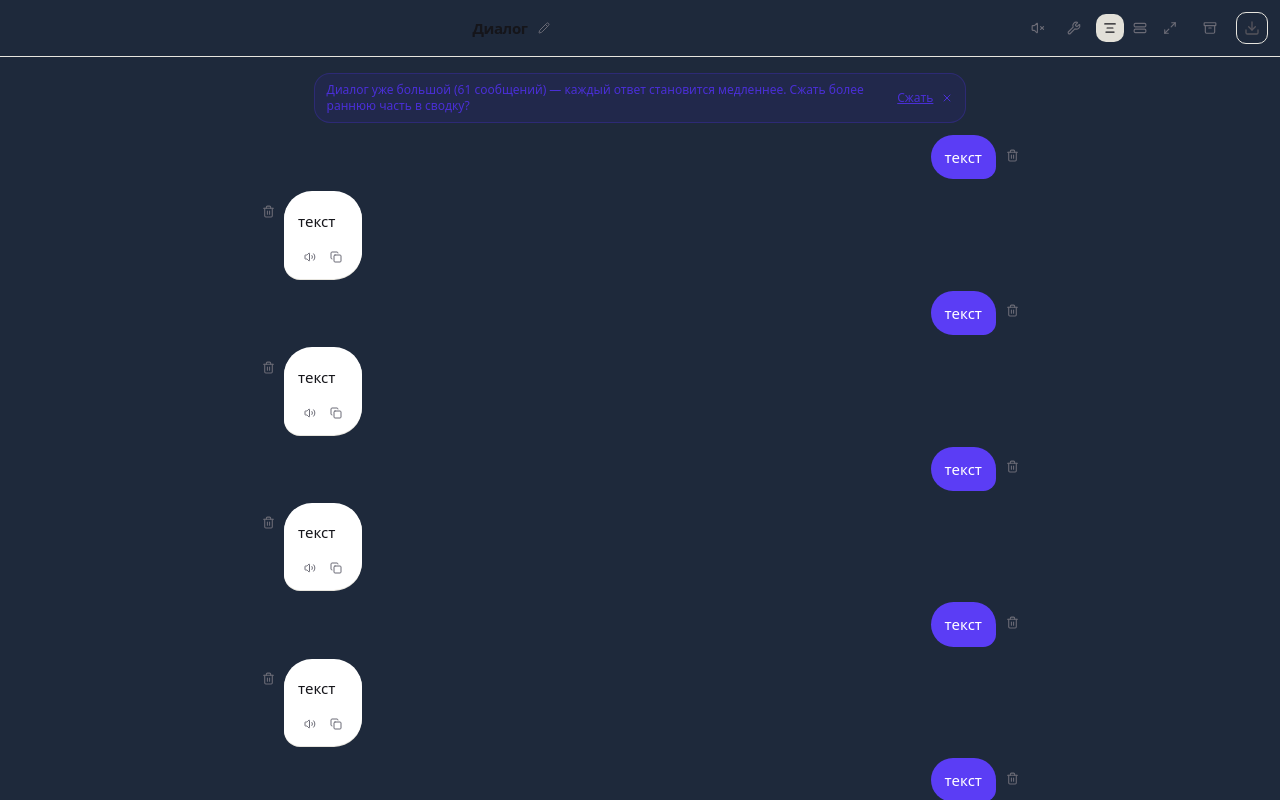
Test case: AssistantChat — сжатие истории › баннер показывается при >60 сообщений и скрывается по кнопке закрытия
Check: the text "каждый ответ становится медленнее" is shown, box [327,81,864,114]
Click the button titled "Скрыть подсказку" at (947, 98), box [941,92,953,104]
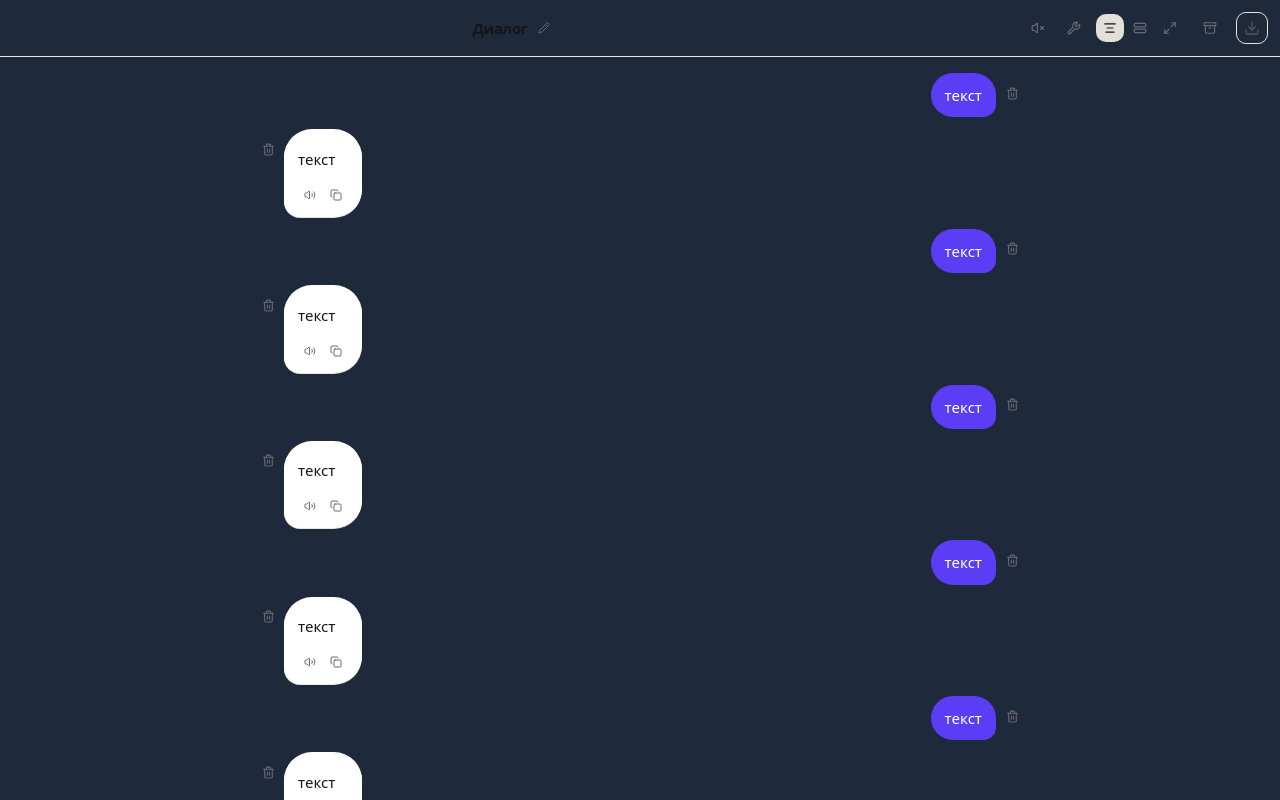
Check: the text "каждый ответ становится медленнее" is gone
